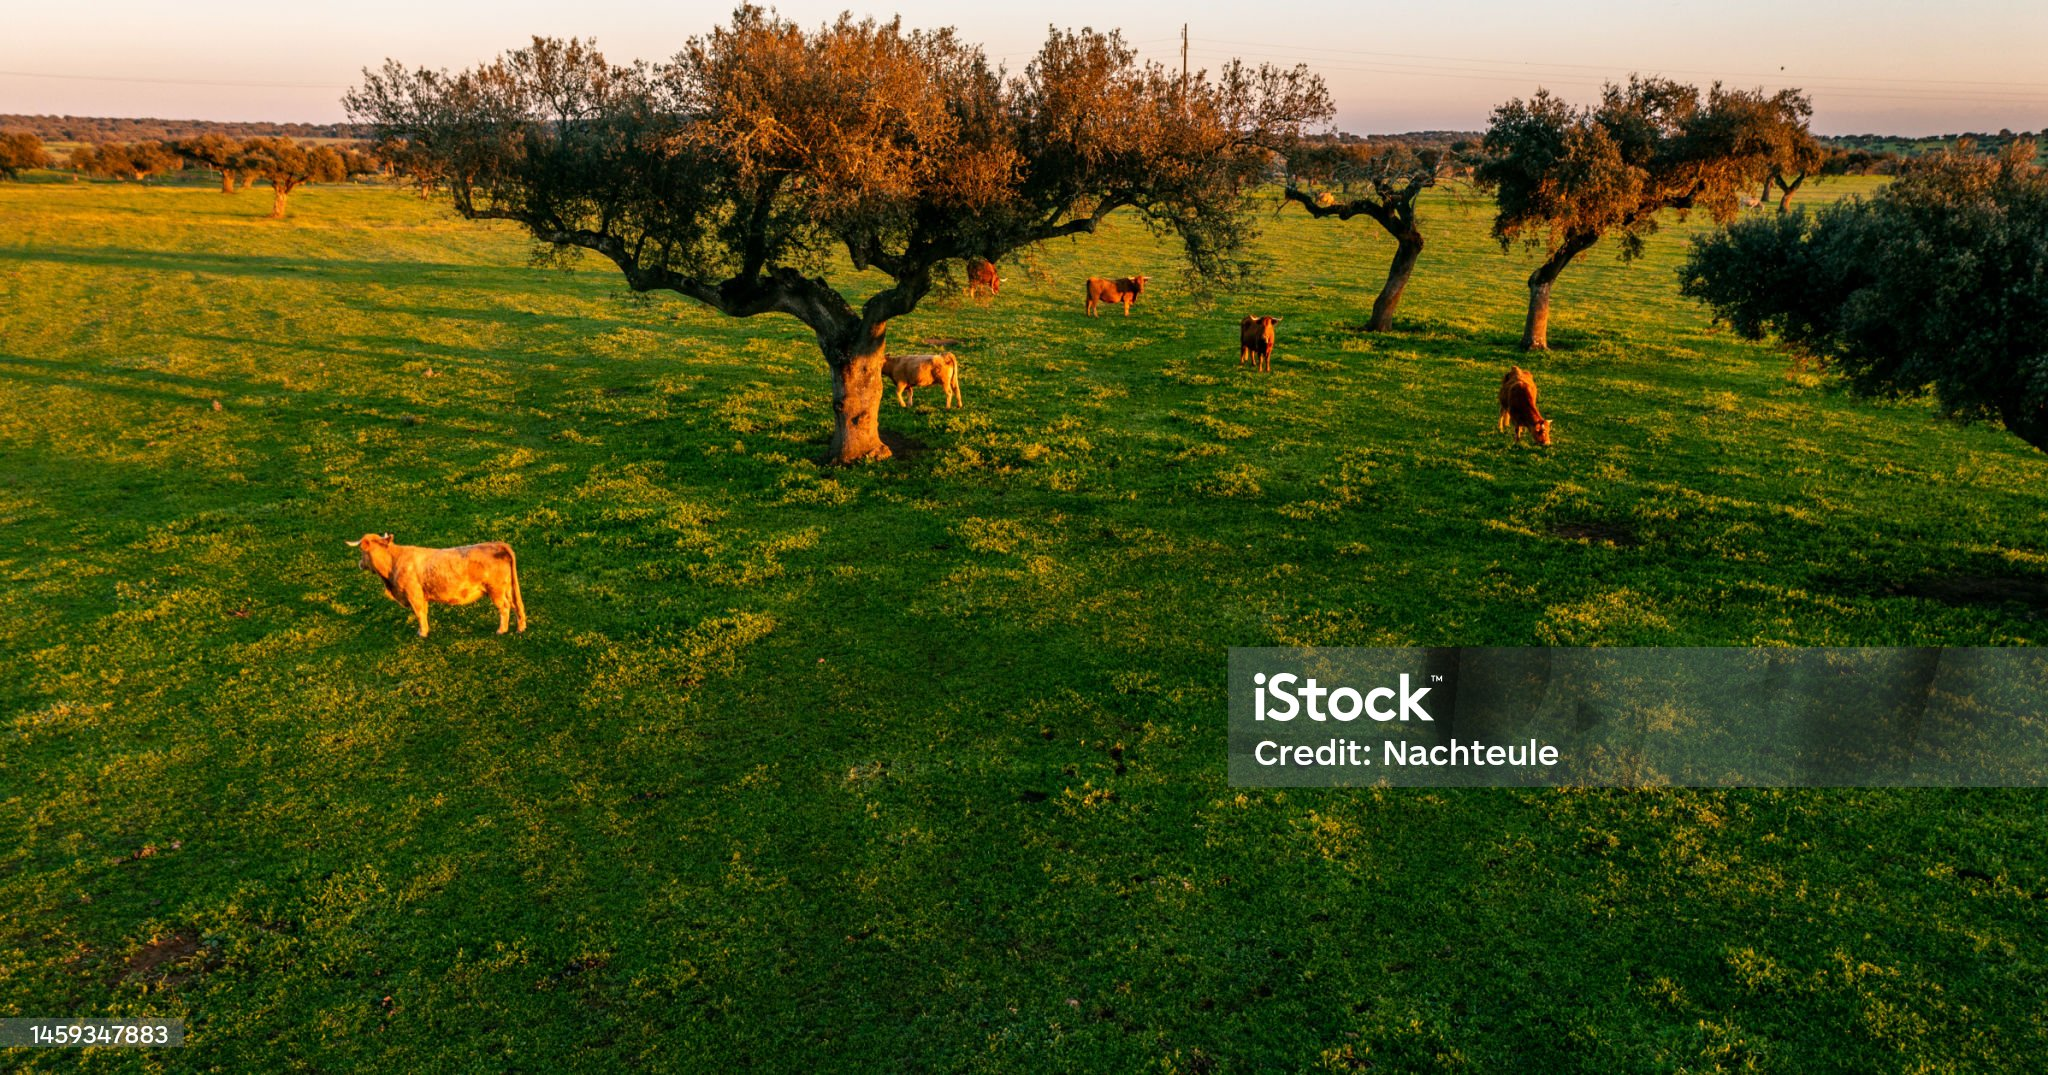cattle: (341, 525, 543, 663), (871, 336, 977, 417), (1490, 356, 1574, 458), (1071, 259, 1151, 321), (1231, 307, 1289, 368), (956, 259, 1006, 311)
